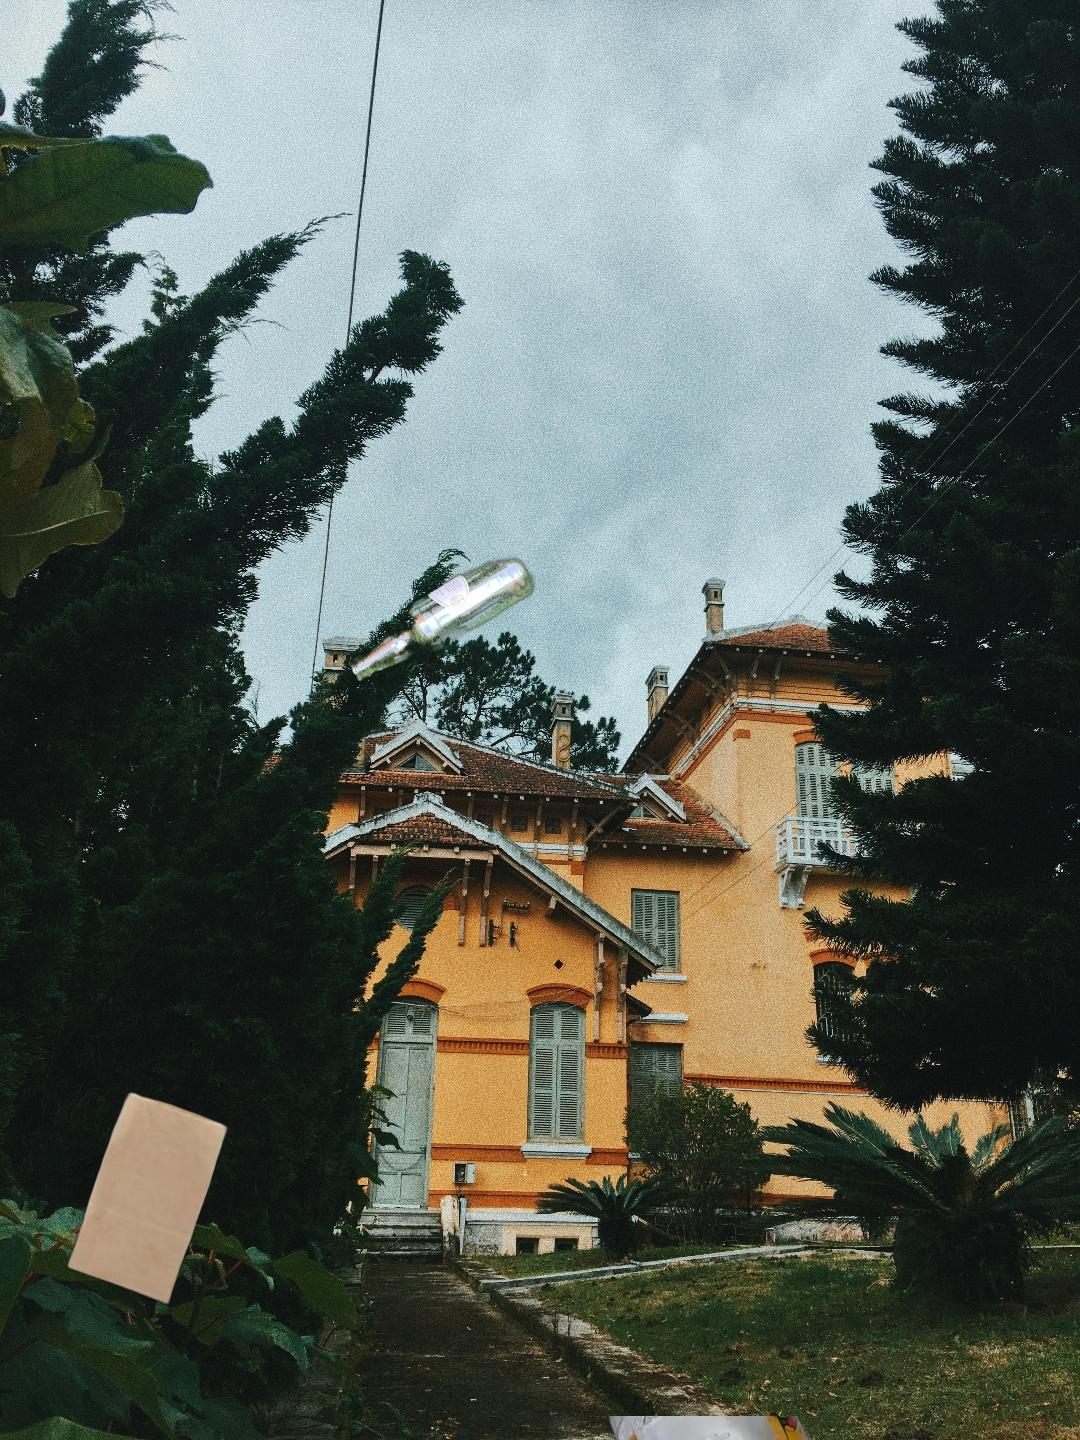glass: (168, 553, 539, 980), (604, 1416, 905, 1440)
paper-bag: (64, 1089, 231, 1308)
penholder: (739, 1366, 1080, 1440)
